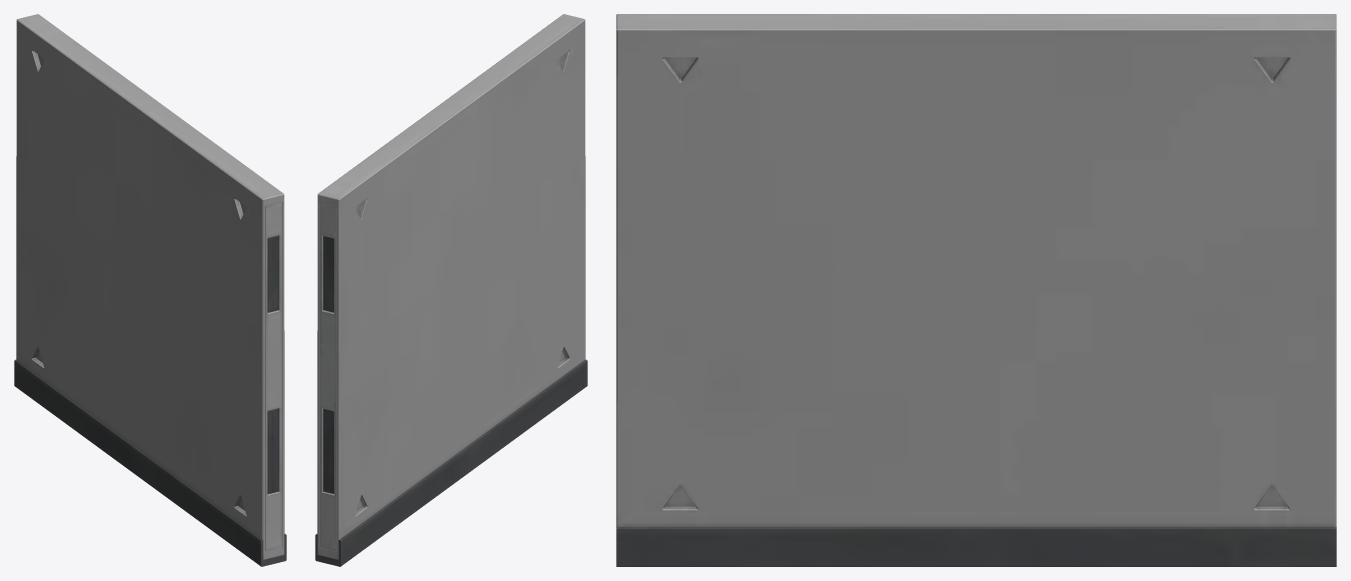
The model's file is SM_Wall_SF_fa583c.glb.
3 renders of one model, left to right at view 1: azimuth 30°, elevation 25°; view 2: azimuth 150°, elevation 25°; view 3: azimuth 270°, elevation 25°, orthographic. The views are drawn at different scales.
Size of the model in its own units: 0.24 by 3.29 by 4.
1 material, 1 textured.
